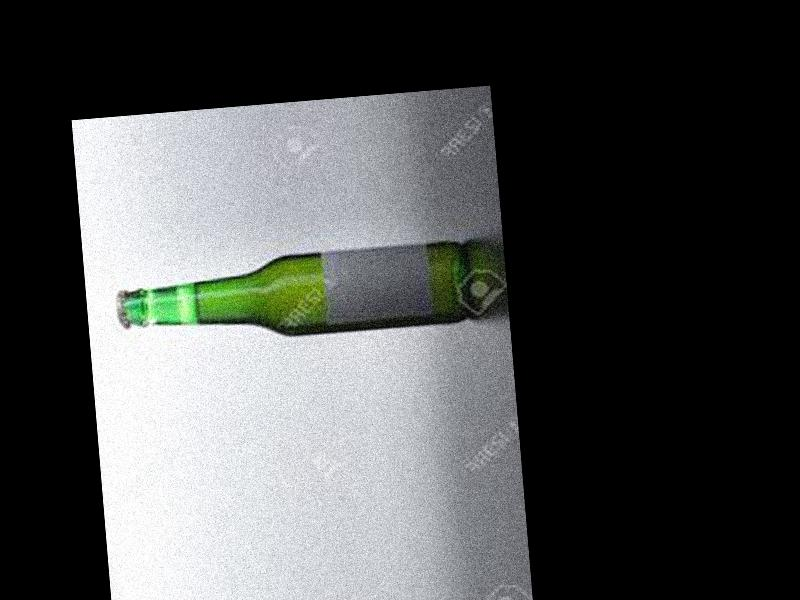Beer: (113, 239, 471, 350)
